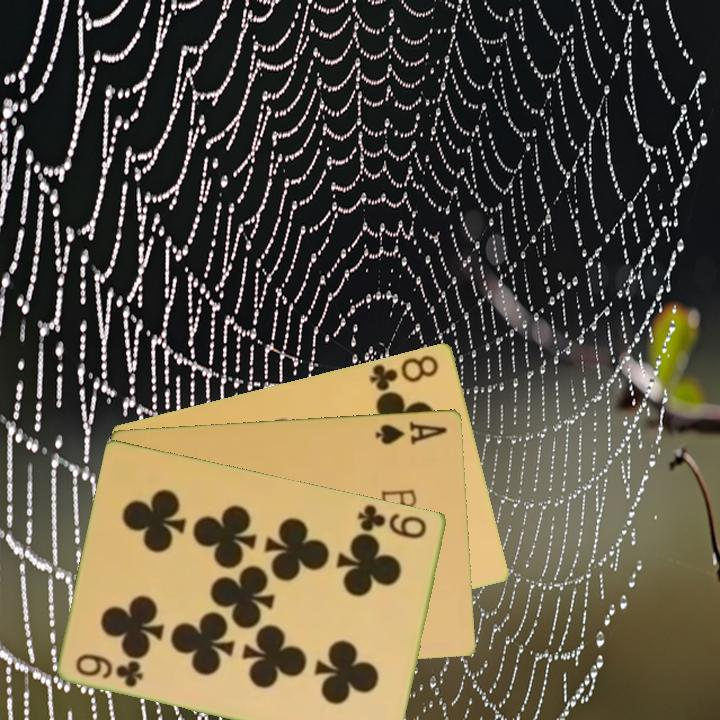8c: (366, 351, 442, 397)
9c: (354, 500, 430, 542), (72, 649, 147, 690)
As: (372, 417, 450, 447)
